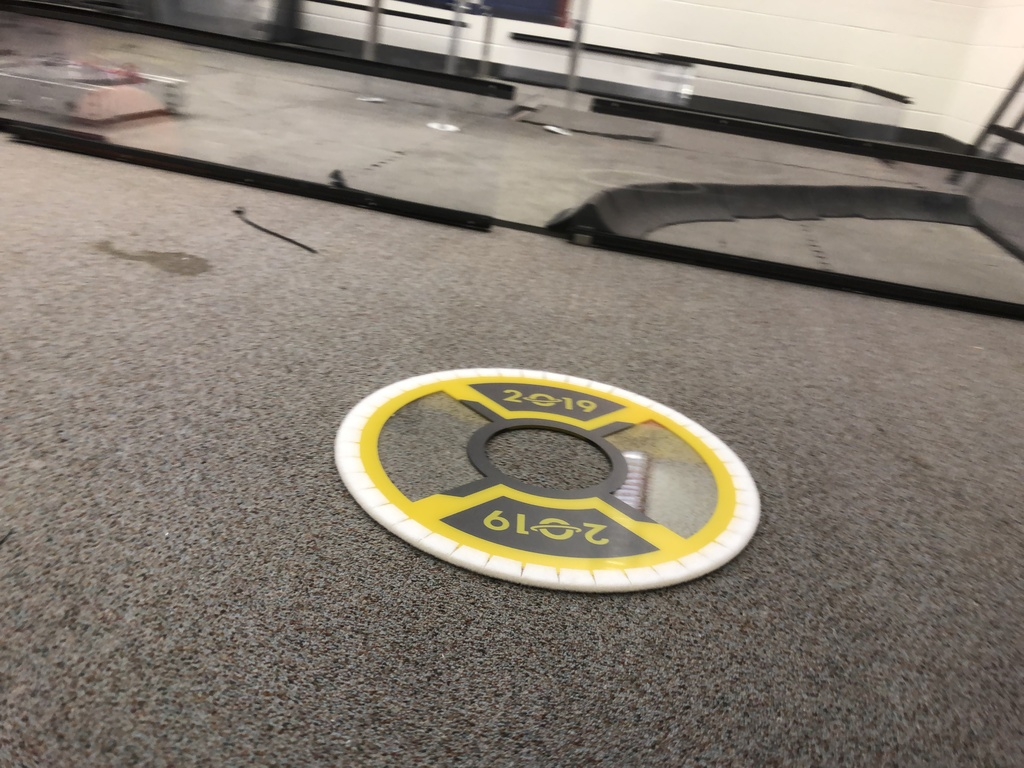hatch_panel: (328, 352, 779, 609)
